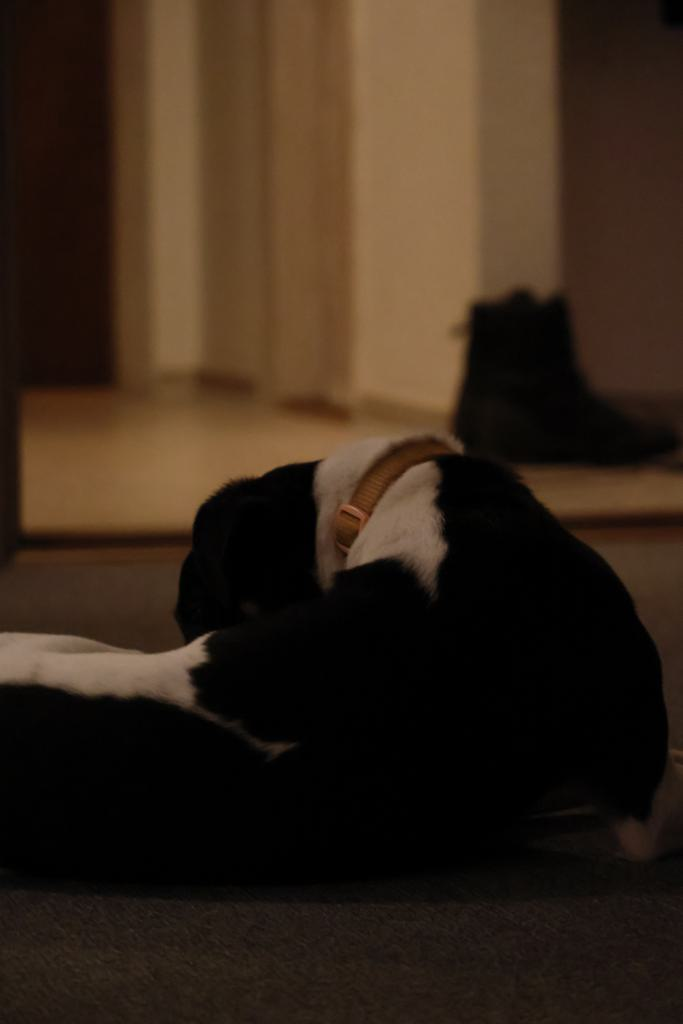Dog: (0, 413, 683, 921)
